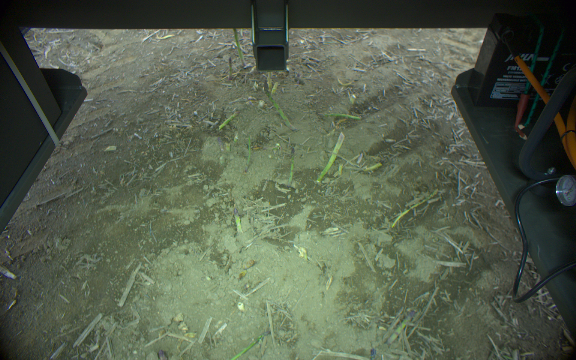aspa: (391, 188, 439, 230), (262, 80, 295, 133), (313, 132, 345, 183), (231, 330, 274, 360), (387, 309, 414, 343), (242, 135, 254, 175), (233, 29, 245, 68), (317, 111, 362, 120), (218, 111, 239, 129), (232, 205, 242, 233), (287, 145, 293, 187), (226, 55, 234, 81)
